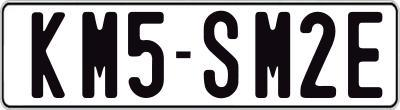2: (300, 11, 341, 101)
5: (127, 11, 169, 102)
E: (347, 11, 383, 102)
K: (29, 10, 63, 96)
M: (254, 10, 294, 97), (82, 11, 120, 102)
S: (203, 10, 242, 98)
